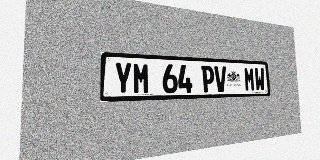4: (178, 64, 192, 93)
6: (162, 64, 178, 93)
M: (133, 63, 150, 94), (244, 67, 255, 91)
P: (201, 65, 215, 92)
V: (214, 66, 227, 92)
W: (254, 68, 265, 91)
Y: (114, 62, 132, 95)
